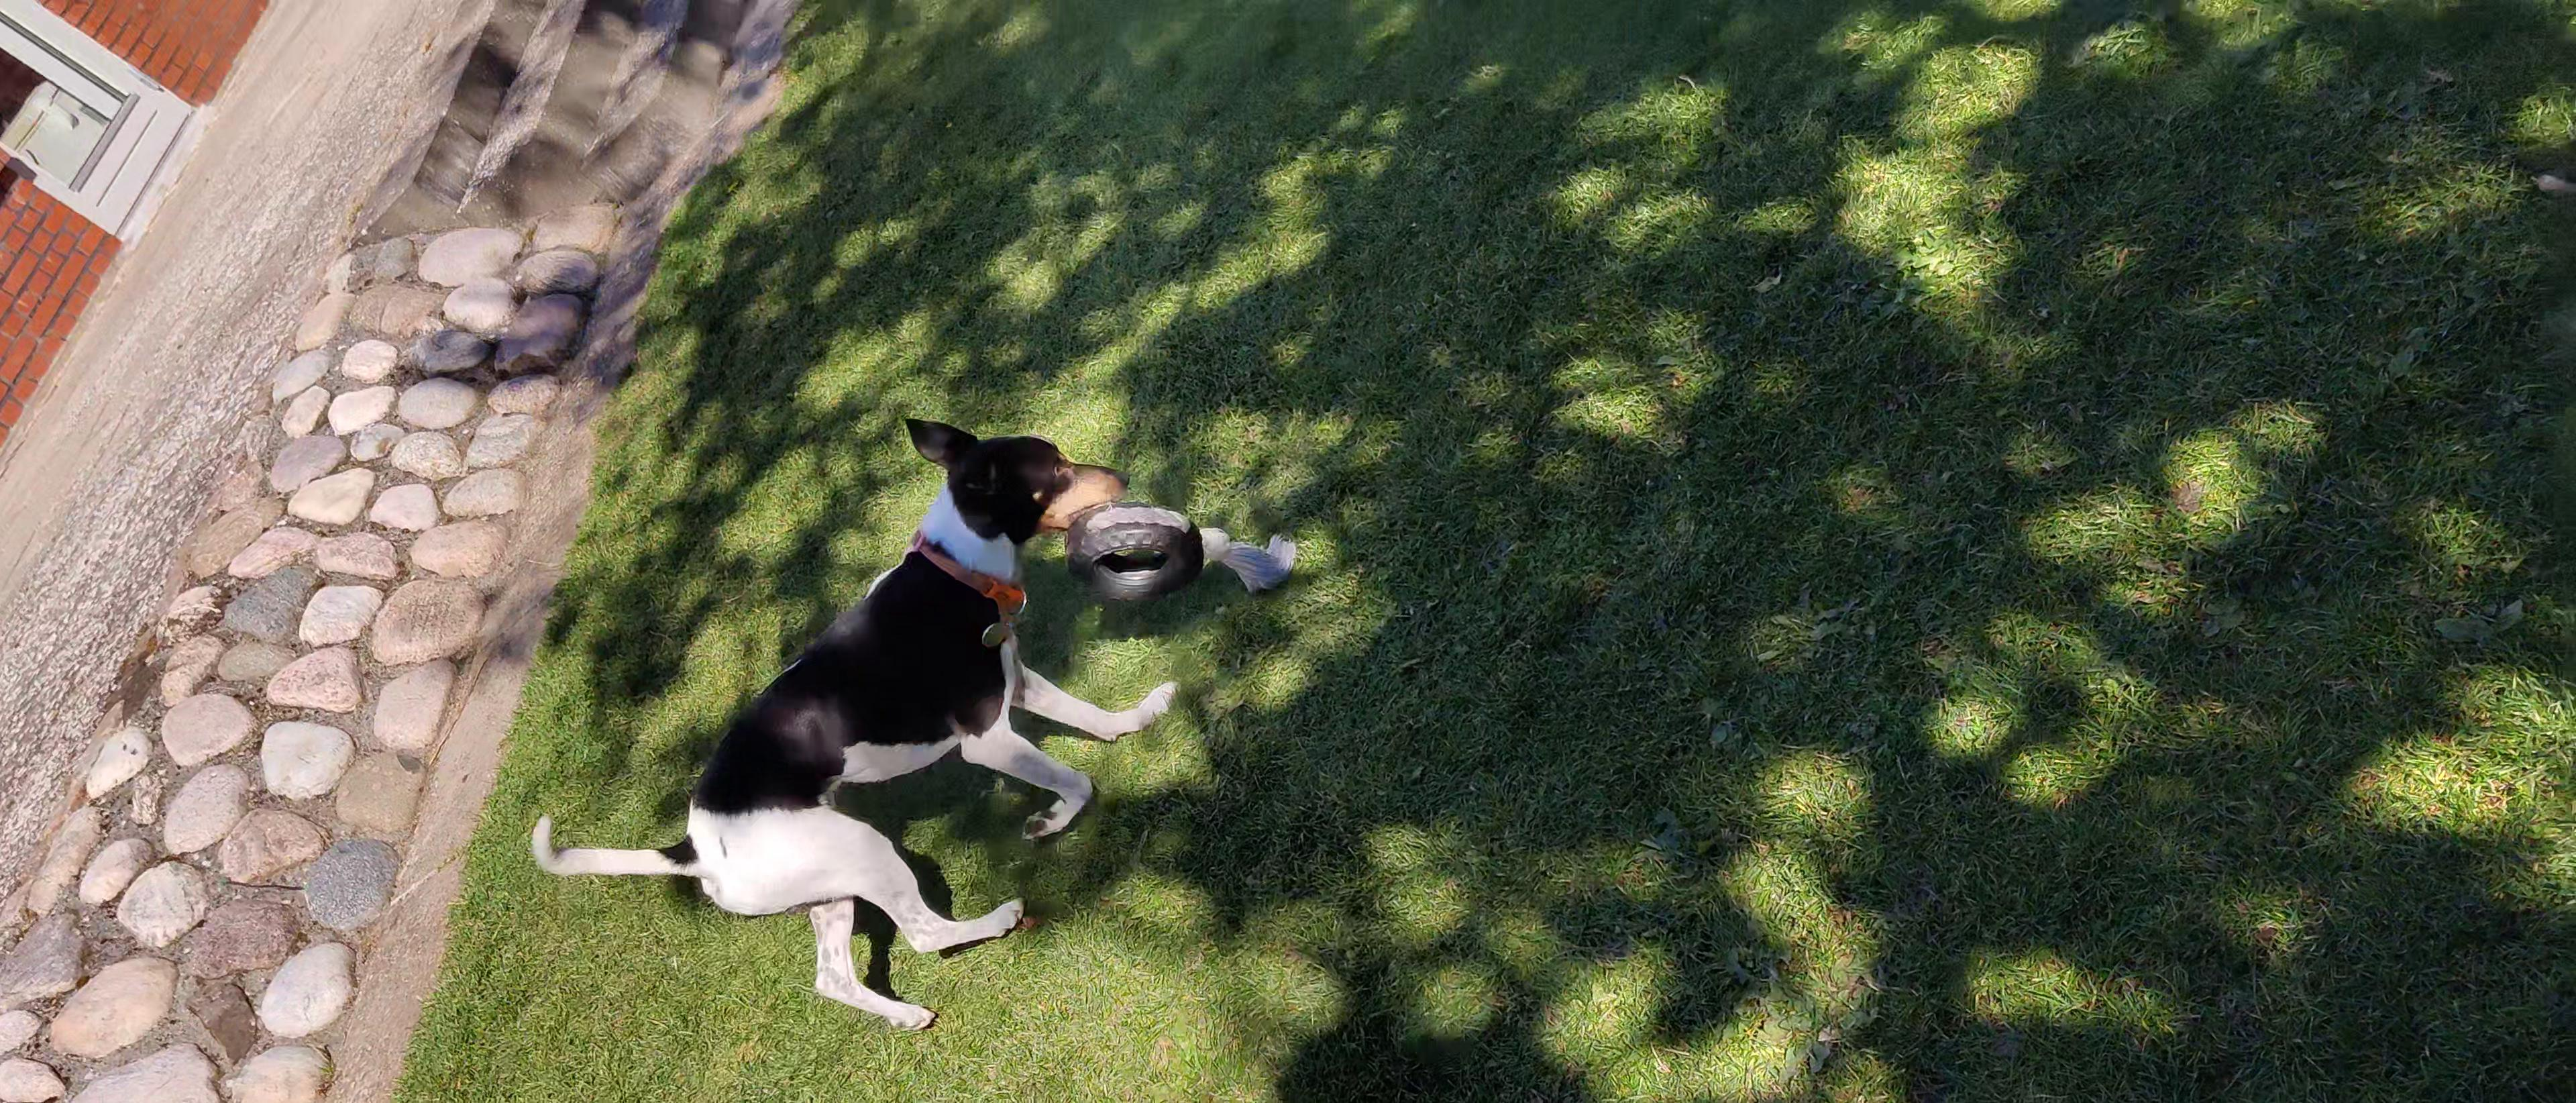Dog: (516, 413, 1181, 1041)
